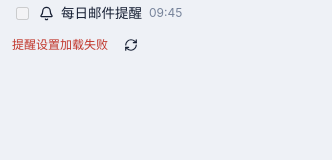
Test case: FailureNotificationToggle › disables the toggle when loading fails and can reload the preference
Expected: the message reads "提醒设置加载失败", [12,37,108,52]
Expected: the checkbox labelled "每日邮件提醒 09:45" is disabled, [16,7,29,20]
Click the button named "重试提醒设置" at (131, 45), box [112,31,150,59]
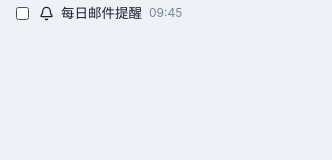
Now the checkbox labelled "每日邮件提醒 09:45" is enabled, box [16,7,29,20]
